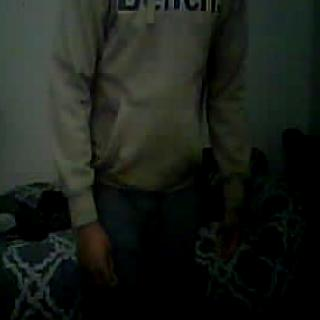Blue Sweatpants: (90, 177, 198, 320)
Yellow Hoodie: (51, 0, 245, 172)
